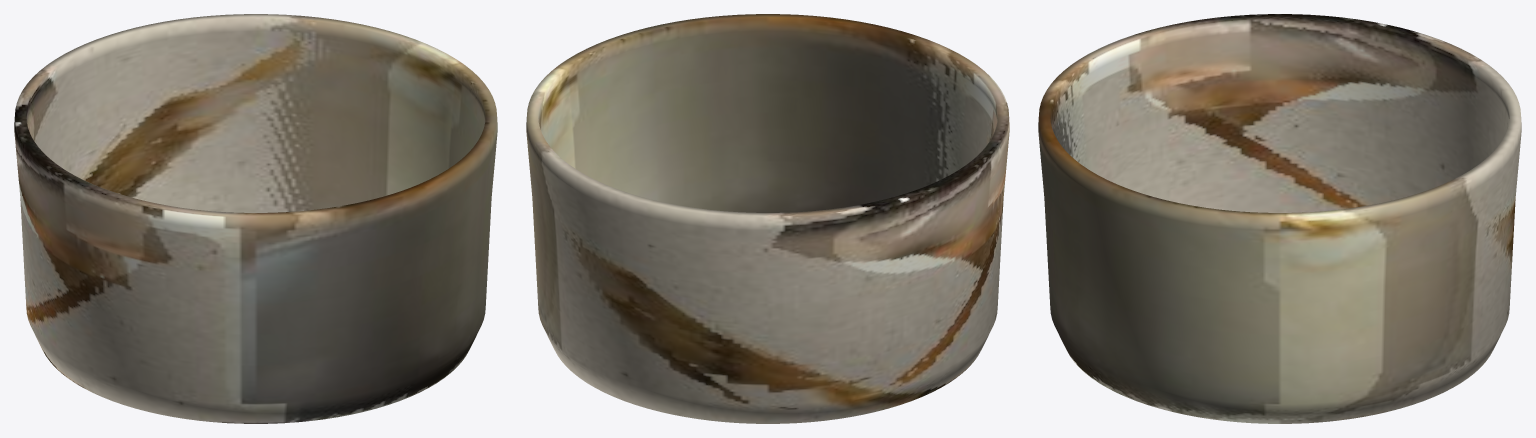
3 views of the same model, side by side, from view 1: azimuth 30°, elevation 25°; view 2: azimuth 150°, elevation 25°; view 3: azimuth 270°, elevation 25° (orthographic).
Visible parts, largest first — view 1: matcha_bowl__body; view 2: matcha_bowl__body; view 3: matcha_bowl__body.
Boxes of the visible parts, left/top/right/bottom form: matcha_bowl__body: left=14, top=14, right=497, bottom=423; matcha_bowl__body: left=526, top=14, right=1009, bottom=423; matcha_bowl__body: left=1038, top=14, right=1521, bottom=423.
Bounding box in the file's own units: 0.1131 × 0.0641 × 0.1131.
2 materials, 1 textured.
